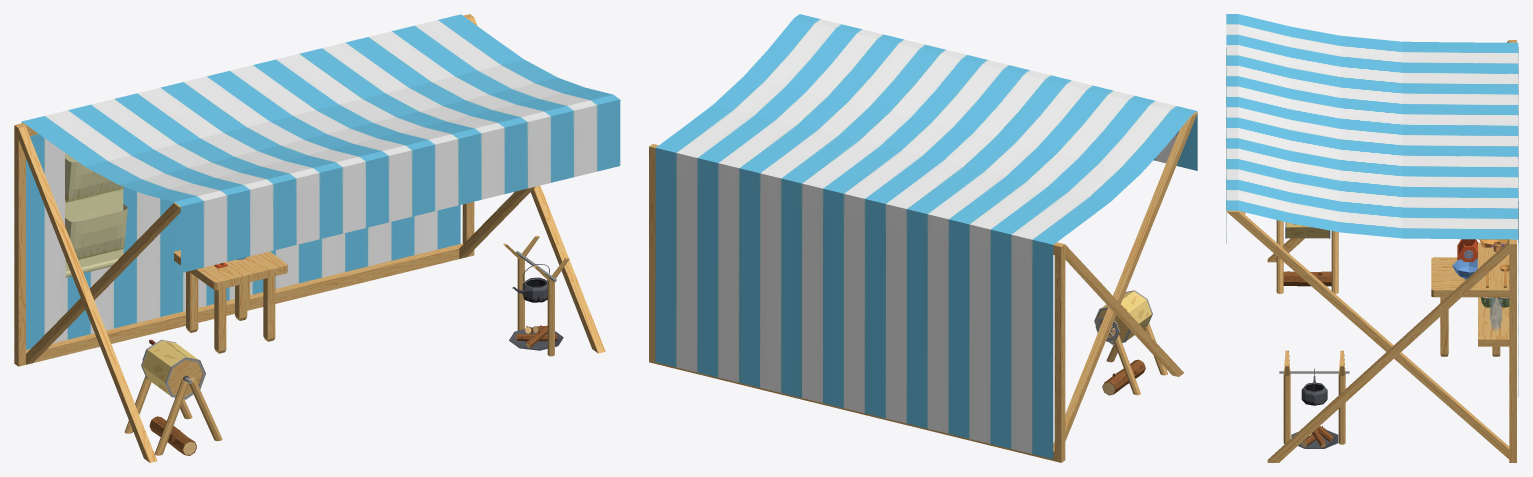
The model's file is tent-shop.glb.
3 renders of one model, left to right at view 1: azimuth 30°, elevation 25°; view 2: azimuth 150°, elevation 25°; view 3: azimuth 270°, elevation 25°, orthographic. The views are drawn at different scales.
Visible parts, largest first — view 1: tarp, tent frame, pouch, Cube.004, Cylinder.034, Cylinder.033, Cylinder.018, Cylinder.038, Cylinder.017, Cylinder.020; view 2: tarp, tent frame, Cylinder.034, Cylinder.038; view 3: tarp, tent frame, Cube.004, Cylinder.018, Cylinder.017, Cylinder.034, Cylinder.020, Cylinder.038, Cylinder.027, Cylinder.033, Cylinder.026, Cylinder.030.
Part boxes in pixels (bbox=[...]): tarp: bbox=[21, 14, 620, 349]; tent frame: bbox=[14, 14, 605, 462]; pouch: bbox=[65, 153, 127, 277]; Cube.004: bbox=[174, 250, 287, 353]; Cylinder.034: bbox=[141, 339, 205, 399]; Cylinder.033: bbox=[154, 377, 222, 455]; Cylinder.018: bbox=[533, 257, 569, 356]; Cylinder.038: bbox=[149, 416, 196, 455]; Cylinder.017: bbox=[503, 235, 539, 330]; Cylinder.020: bbox=[512, 264, 549, 302]; tarp: bbox=[655, 14, 1197, 459]; tent frame: bbox=[649, 112, 1197, 462]; Cylinder.034: bbox=[1094, 290, 1152, 344]; Cylinder.038: bbox=[1102, 359, 1145, 395]; tarp: bbox=[1226, 14, 1518, 397]; tent frame: bbox=[1226, 40, 1516, 462]; Cube.004: bbox=[1431, 257, 1500, 356]; Cylinder.018: bbox=[1283, 350, 1290, 443]; Cylinder.017: bbox=[1338, 350, 1345, 444]; Cylinder.034: bbox=[1285, 222, 1330, 238]; Cylinder.020: bbox=[1301, 368, 1327, 405]; Cylinder.038: bbox=[1283, 271, 1331, 286]; Cylinder.027: bbox=[1331, 231, 1338, 293]; Cylinder.033: bbox=[1276, 220, 1283, 293]; Cylinder.026: bbox=[1457, 239, 1477, 261]; Cylinder.030: bbox=[1452, 259, 1477, 279].
Bounding box in the file's own units: 6.2 × 3.62 × 3.76.
8 materials, 2 textured.
